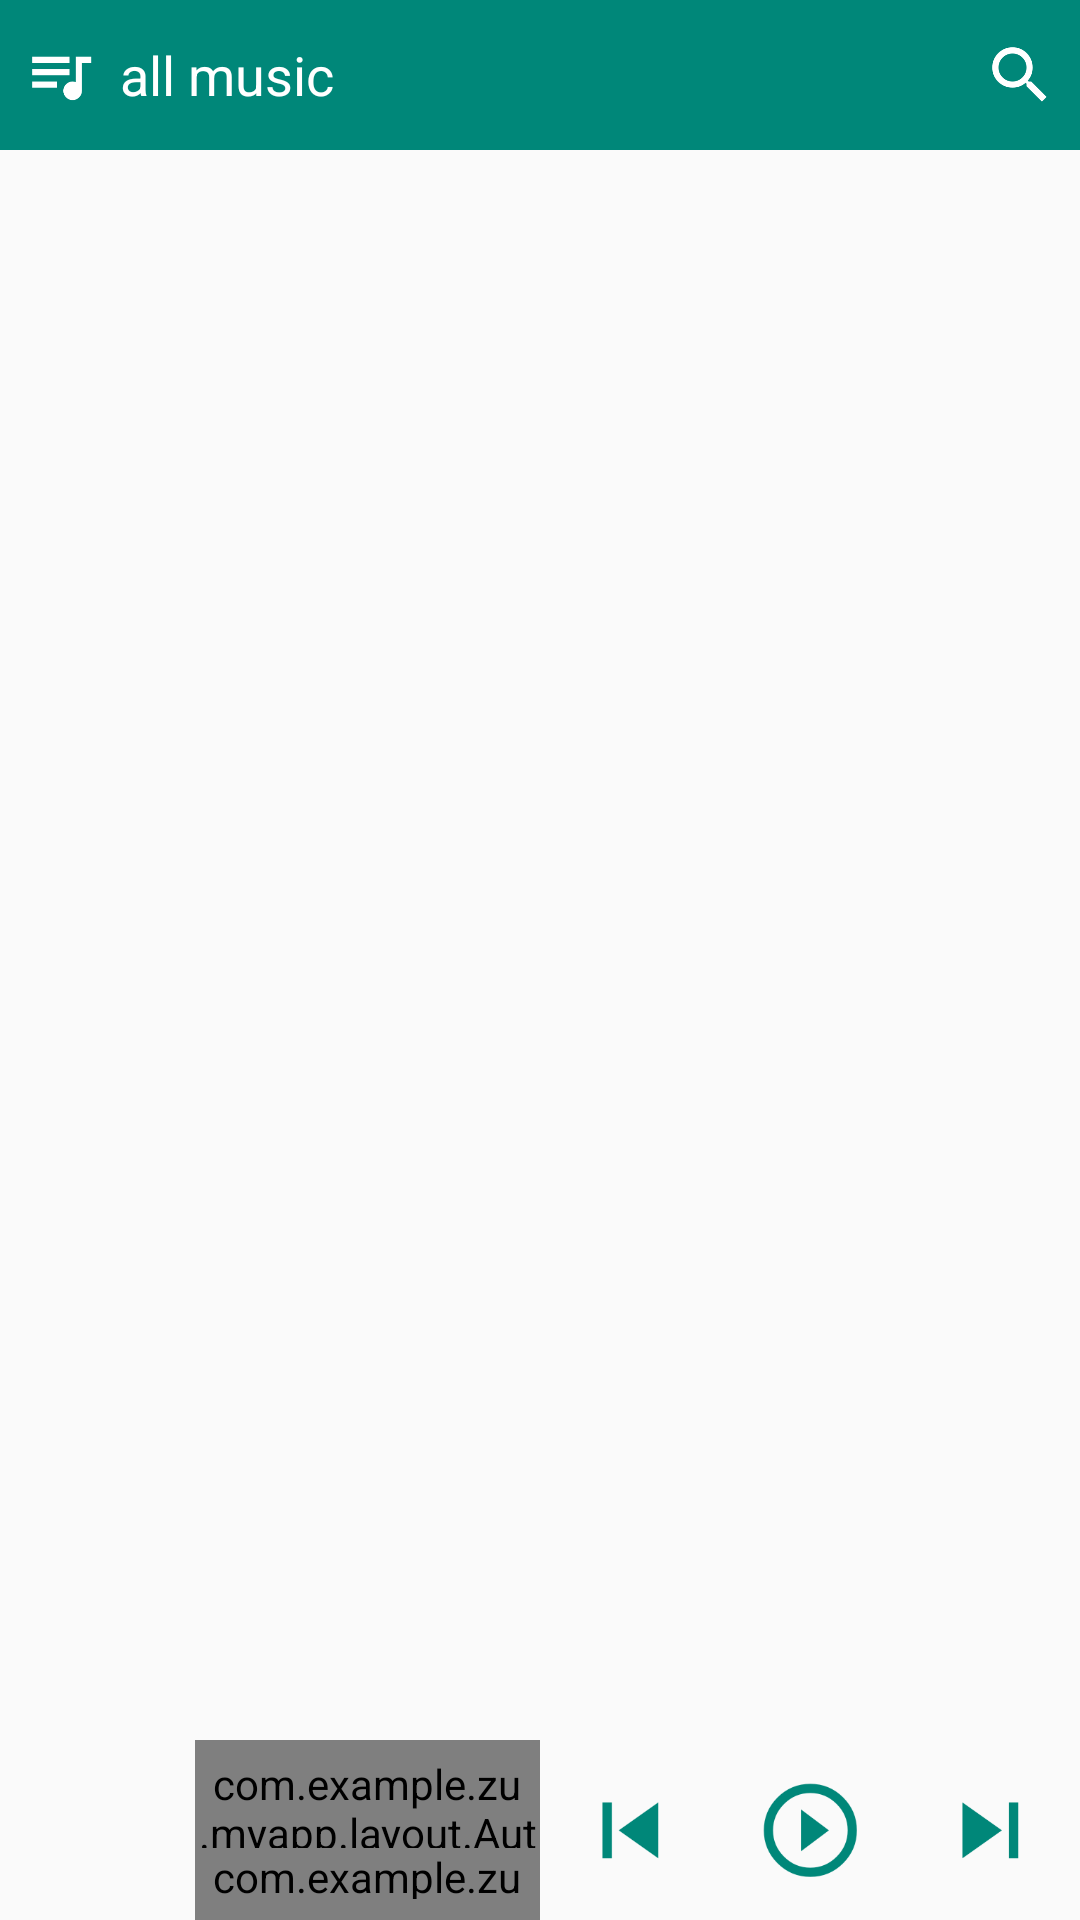

Named icons in this screenshot (1080px×1920px) and their centers, (x=x, y=y):
next: (x=990, y=1830)
play: (x=810, y=1830)
previous: (x=630, y=1830)
search: (x=1019, y=74)
